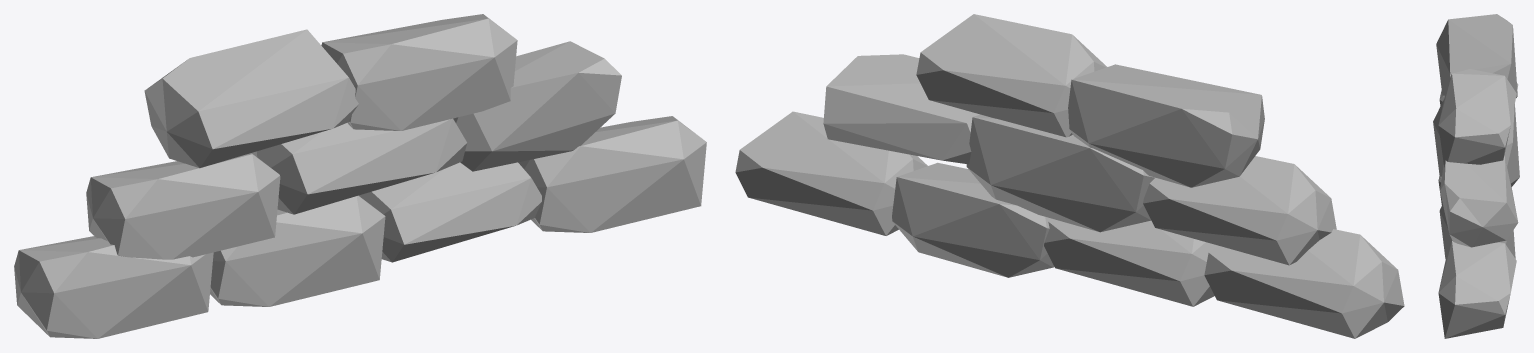
The model's file is stones_003.glb.
3 views of the same model, side by side, from view 1: azimuth 30°, elevation 25°; view 2: azimuth 150°, elevation 25°; view 3: azimuth 270°, elevation 25° (orthographic). The views are drawn at different scales.
Visible parts, largest first — view 1: stones_003; view 2: stones_003; view 3: stones_003.
Part boxes in pixels (x1,y1,x2,y2): stones_003: (14, 14, 706, 338); stones_003: (735, 14, 1404, 338); stones_003: (1433, 14, 1519, 338).
Bounding box in the file's own units: 5.04 × 1.7 × 0.8184.
1 material, 1 textured.
